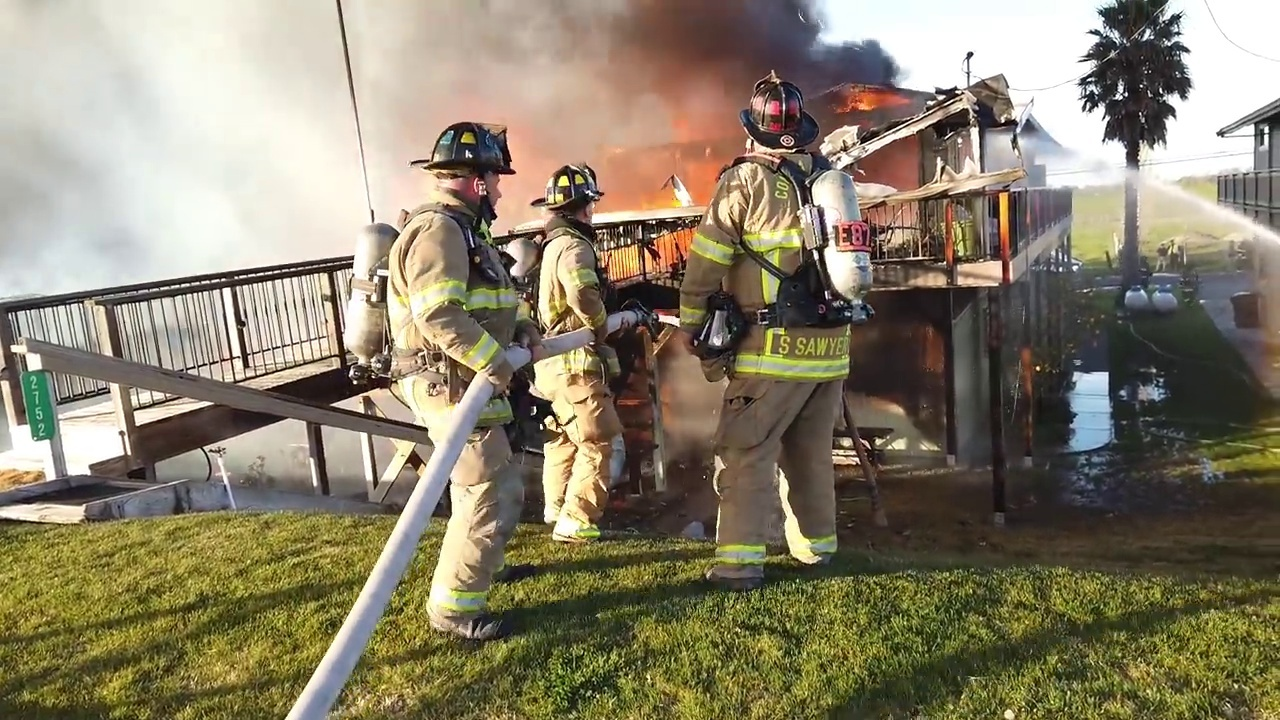fire: (607, 233, 684, 275), (839, 83, 895, 110)
smoke: (6, 7, 357, 253), (549, 1, 904, 83), (372, 6, 548, 104), (588, 93, 707, 219), (659, 350, 723, 445), (228, 432, 310, 494), (323, 428, 365, 499)
